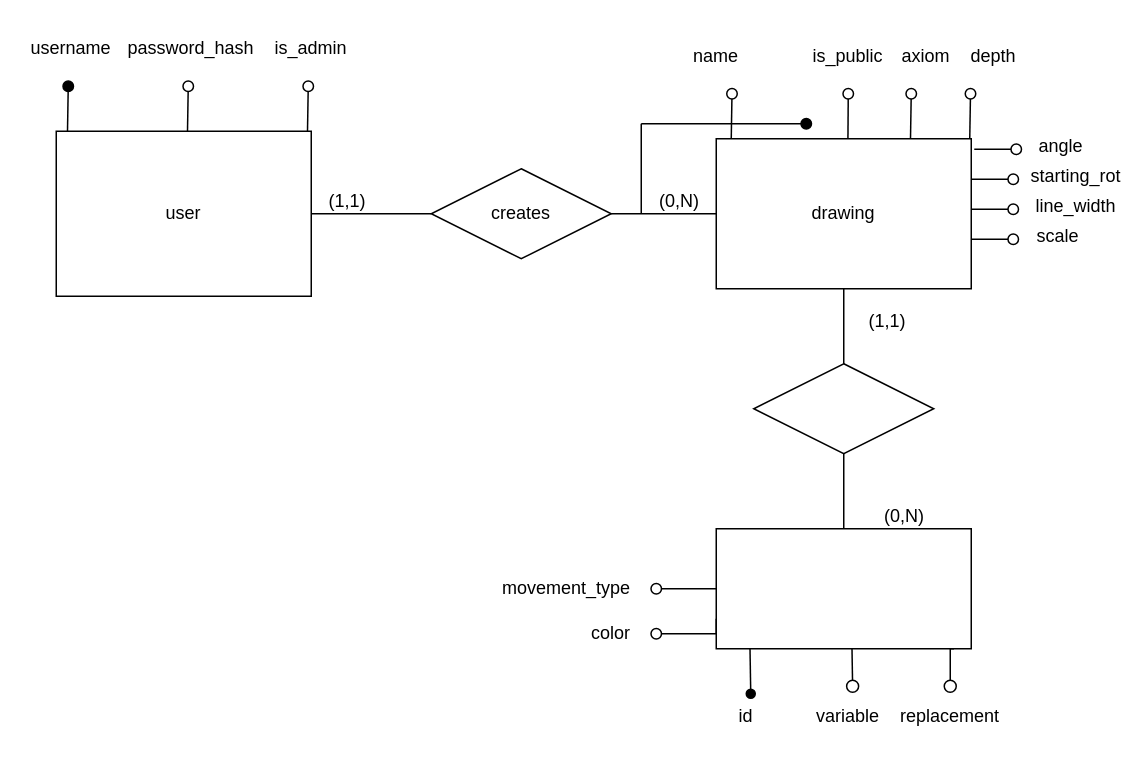
Image size: 1146x764. Some labels were removed from this diagram. The shapes that lost their labels are listed below. From the top down, each one's box as (x1, y1, x2, y2) in pixels, then its label:
(752, 362, 934, 454): owns
(715, 527, 971, 649): rule
